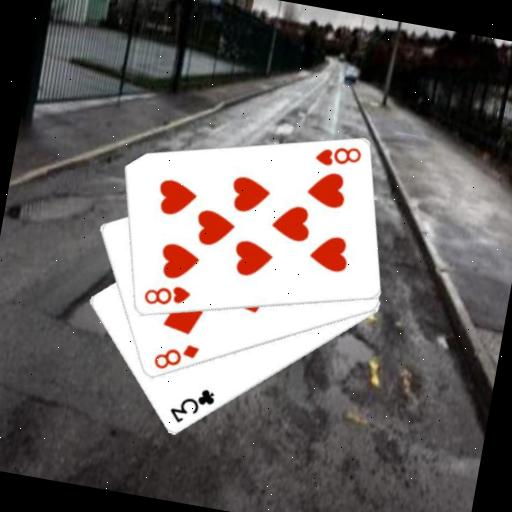3C: (164, 380, 218, 431)
8D: (148, 335, 202, 377)
8H: (139, 277, 194, 313), (310, 137, 364, 173)
